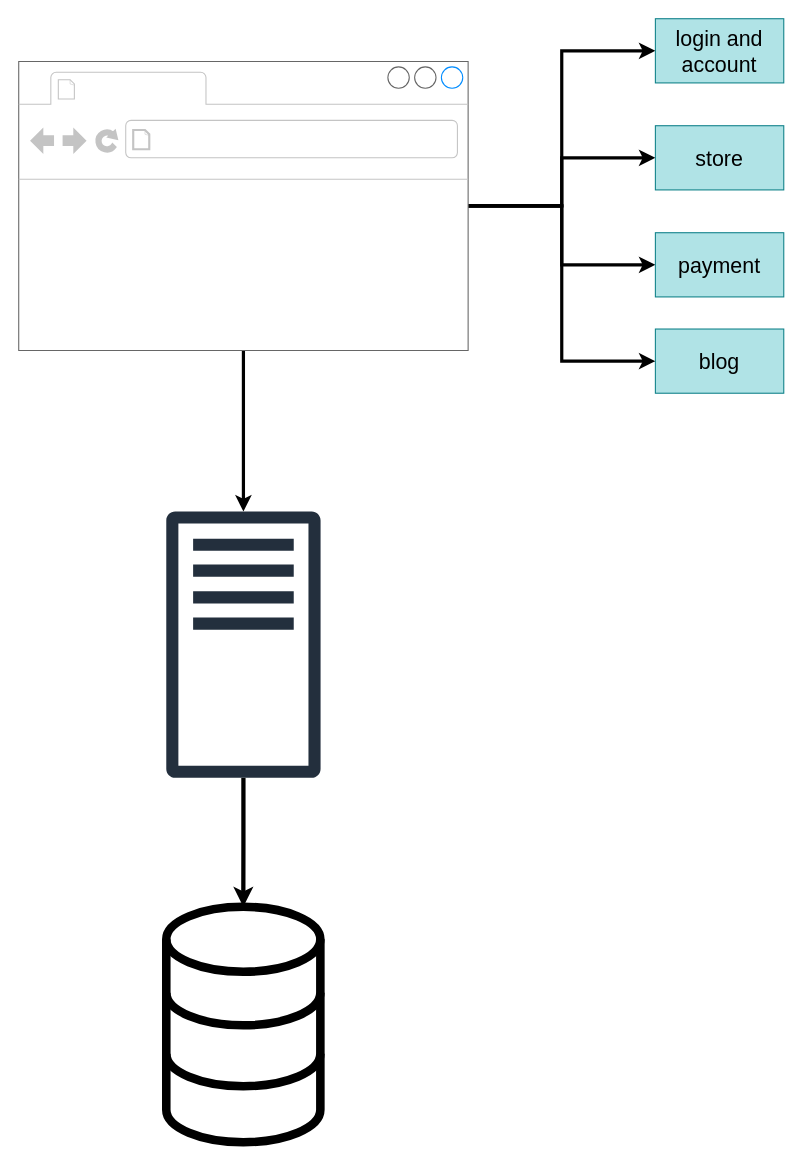
Image size: 803x1165. Some labels were removed from this diagram. The shapes that lost their labels are listed below. From the top down, each one's box as (x1, y1, x2, y2) in pixels, then its label:
(82, 73, 201, 102): Page 1
(157, 125, 425, 154): https://www.draw.io
